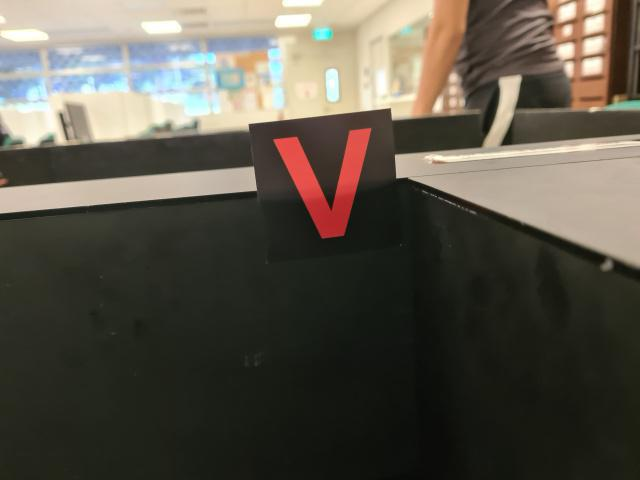v: (248, 110, 402, 263)
